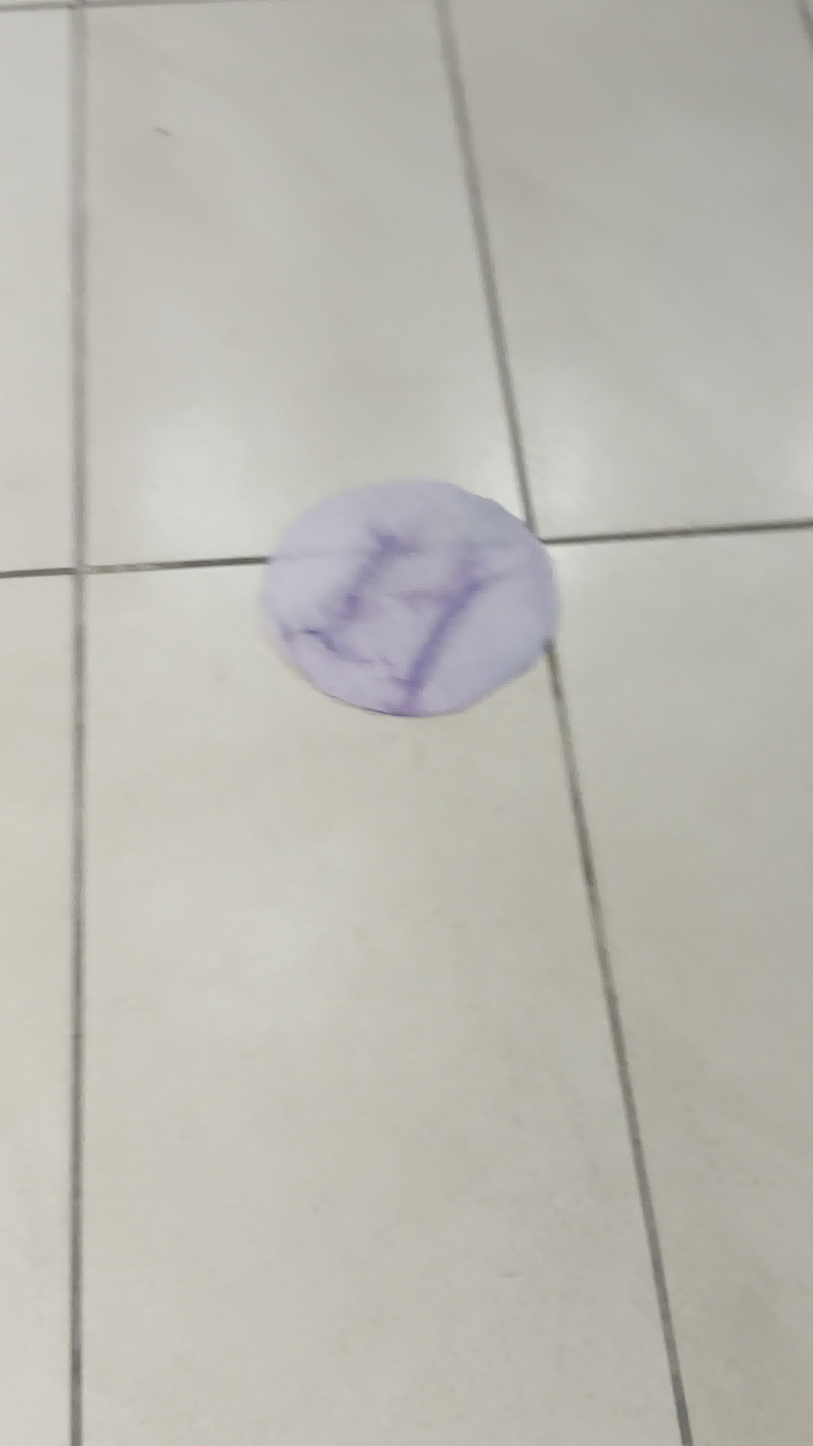Target: (258, 476, 561, 718)
